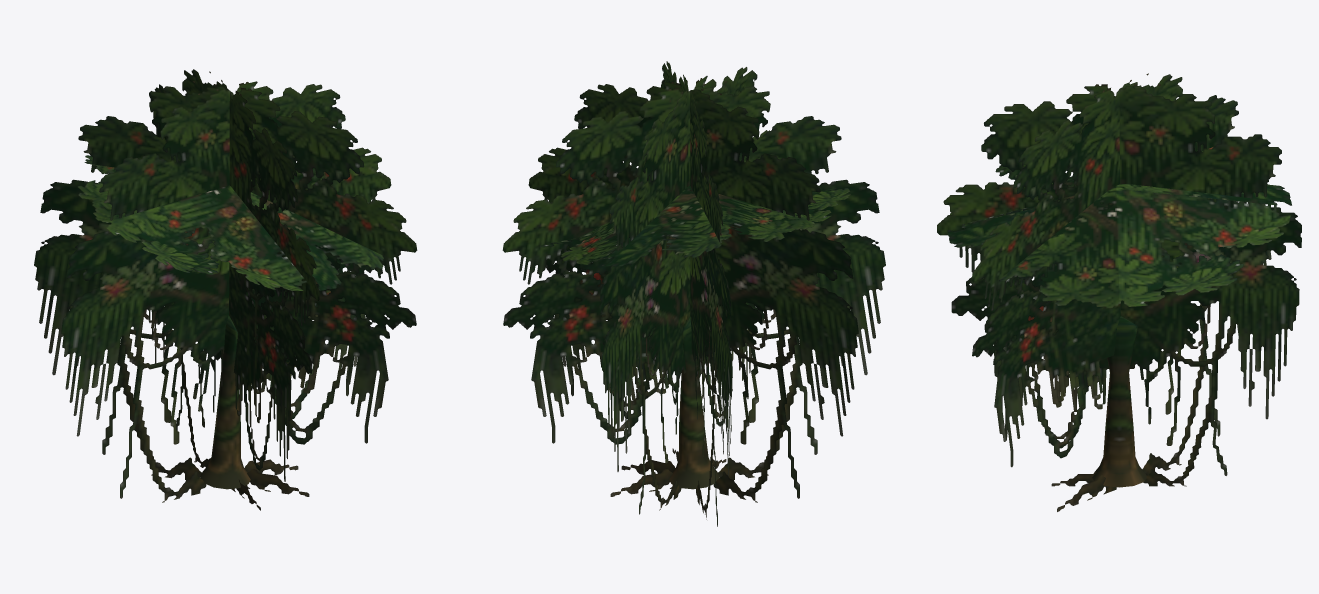
The model's file is jungle_tree4.obj.
The picture shows the model from 3 angles, left to right: view 1: azimuth 30°, elevation 25°; view 2: azimuth 150°, elevation 25°; view 3: azimuth 270°, elevation 25°; orthographic projection.
Parts seen in each view (by area): view 1: jungle_tree4; view 2: jungle_tree4; view 3: jungle_tree4.
Boxes of the visible parts, x1=… form: jungle_tree4: x1=34, y1=69, x2=417, y2=510; jungle_tree4: x1=502, y1=61, x2=885, y2=526; jungle_tree4: x1=937, y1=73, x2=1301, y2=511.
Size of the model in its own units: 16.3 by 16.77 by 13.95.
1 material, 1 textured.
